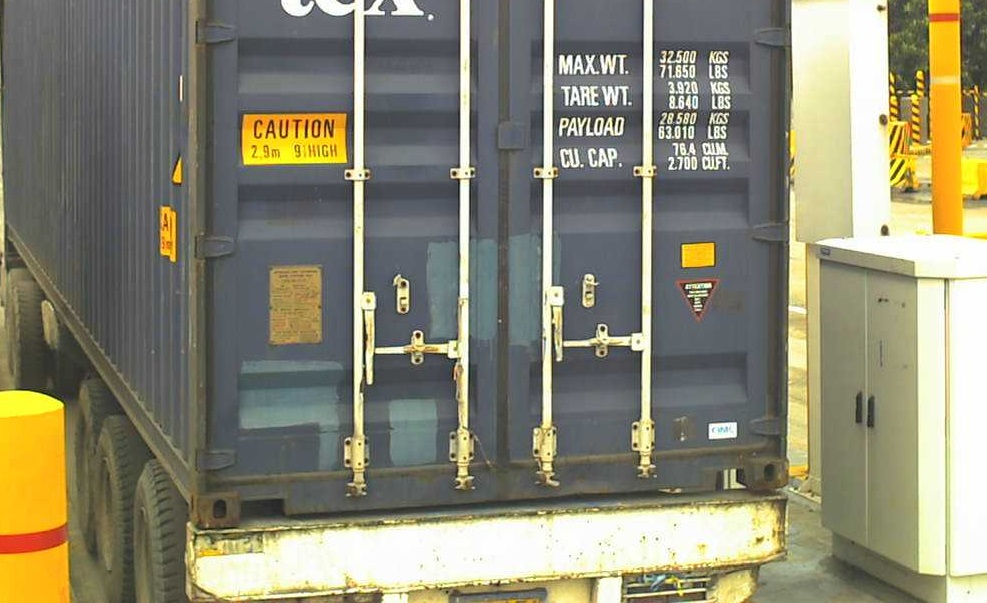container_door: (196, 1, 784, 536)
